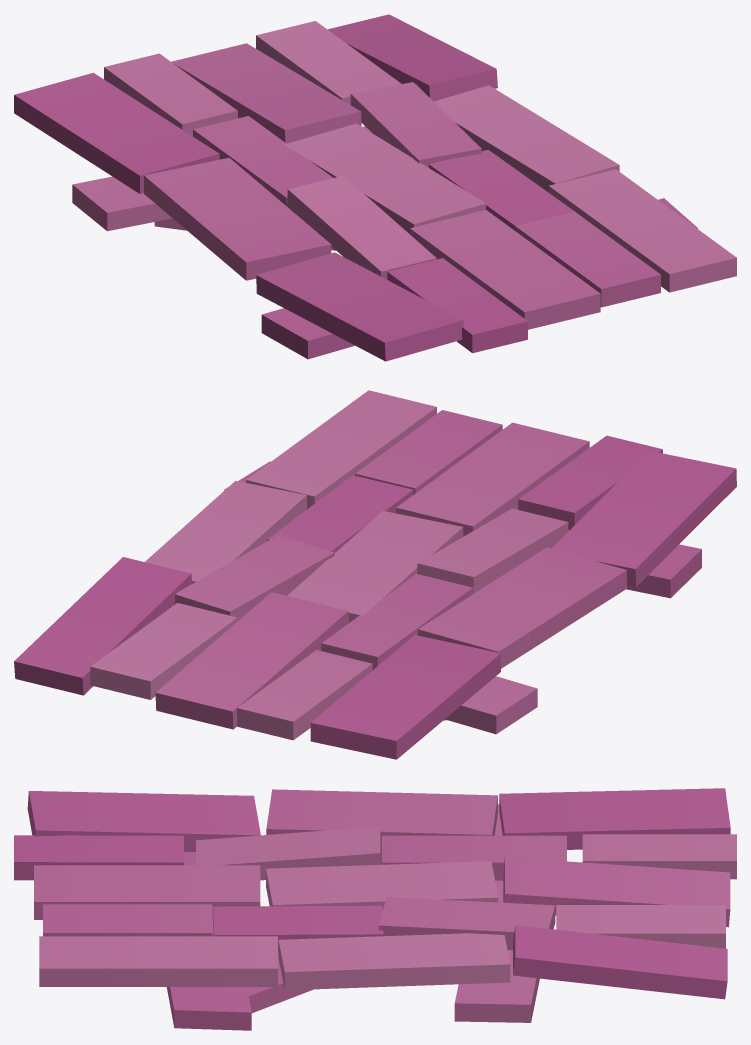
File: mdl_bridge.fbx
3 renders of one model, top to bottom at view 1: azimuth 30°, elevation 25°; view 2: azimuth 150°, elevation 25°; view 3: azimuth 270°, elevation 25°, orthographic. The views are drawn at different scales.
Visible parts, largest first — view 1: mdl_bridge; view 2: mdl_bridge; view 3: mdl_bridge.
Part boxes in pixels (box(x1,y1,x2,y2)): mdl_bridge: box(14, 14, 736, 361); mdl_bridge: box(14, 390, 736, 759); mdl_bridge: box(14, 788, 736, 1030).
Size of the model in its own units: 2.46 by 0.4067 by 3.61.
